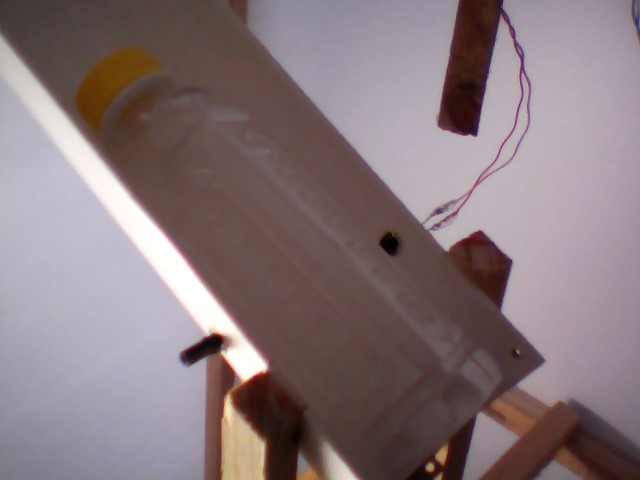plastico: (69, 37, 507, 474)
